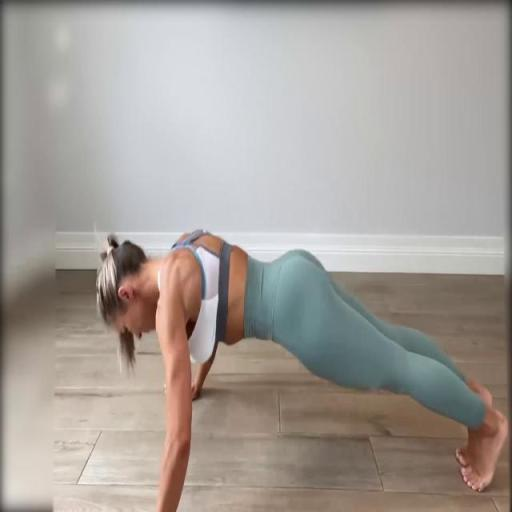Normal_Dips: (12, 211, 512, 512)
